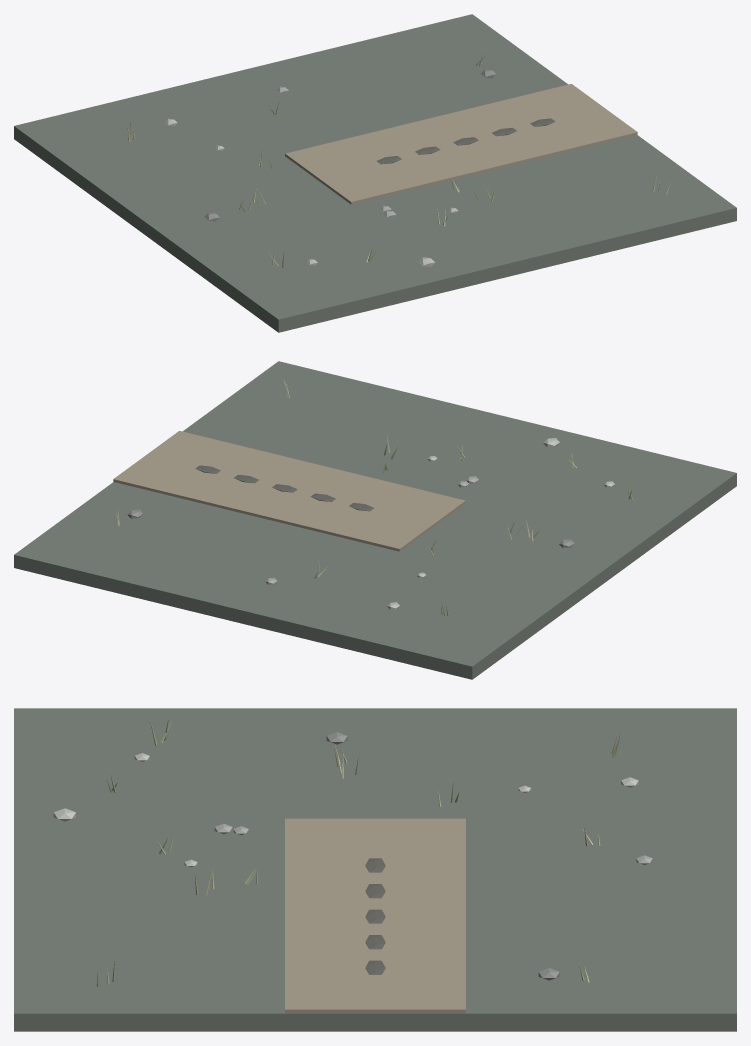
File: path_cap_e.glb
3 views of the same model, one above another, from view 1: azimuth 30°, elevation 25°; view 2: azimuth 150°, elevation 25°; view 3: azimuth 270°, elevation 25° (orthographic). The views are drawn at different scales.
Parts seen in each view (by area): view 1: road_material_00, road_material_01, road_material_07; view 2: road_material_00, road_material_01, road_material_07; view 3: road_material_00, road_material_01, road_material_07, road_material_03, road_material_04, road_material_05.
Boxes of the visible parts, <box> form: road_material_00: <box>14,14,736,332</box>; road_material_01: <box>285,84,637,204</box>; road_material_07: <box>376,118,555,164</box>; road_material_00: <box>14,361,736,679</box>; road_material_01: <box>113,431,465,551</box>; road_material_07: <box>195,465,374,511</box>; road_material_00: <box>14,708,736,1031</box>; road_material_01: <box>285,818,465,1013</box>; road_material_07: <box>365,858,385,974</box>; road_material_03: <box>106,719,620,979</box>; road_material_04: <box>53,753,638,867</box>; road_material_05: <box>96,748,593,986</box>.
Bounding box in the file's own units: 8 × 0.5265 × 8.
